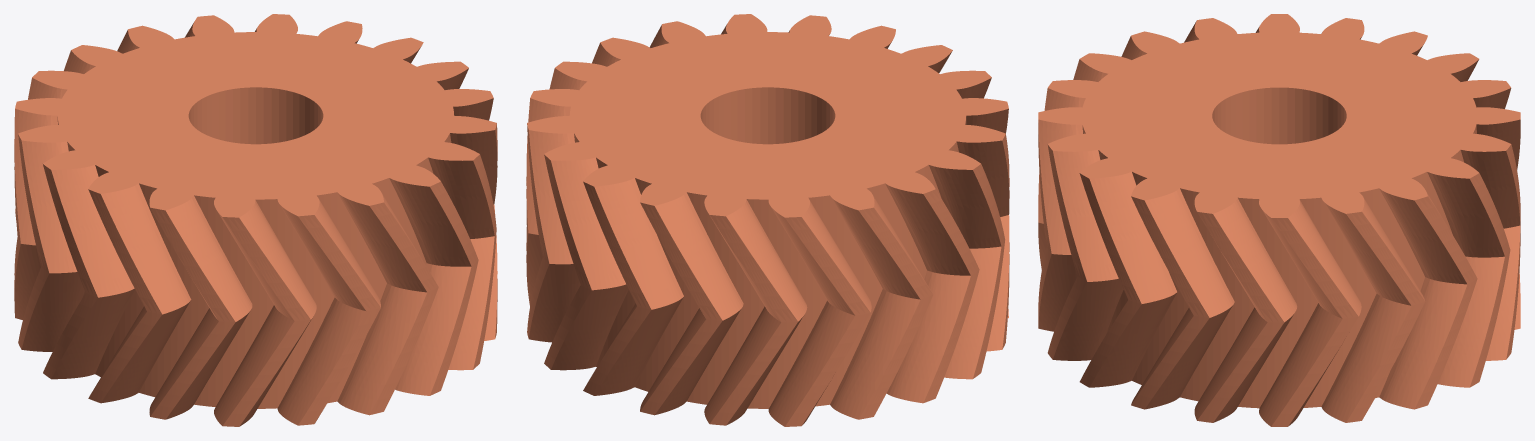
The model's file is right_gear.dae.
The picture shows the model from 3 angles, left to right: view 1: azimuth 30°, elevation 25°; view 2: azimuth 150°, elevation 25°; view 3: azimuth 270°, elevation 25°; orthographic projection.
Visible parts, largest first — view 1: Right Gear; view 2: Right Gear; view 3: Right Gear.
Boxes of the visible parts, <box> form: Right Gear: <box>14,14,497,426</box>; Right Gear: <box>526,14,1009,426</box>; Right Gear: <box>1038,14,1520,426</box>.
Bounding box in the file's own units: 0.0251 × 0.0251 × 0.012.
